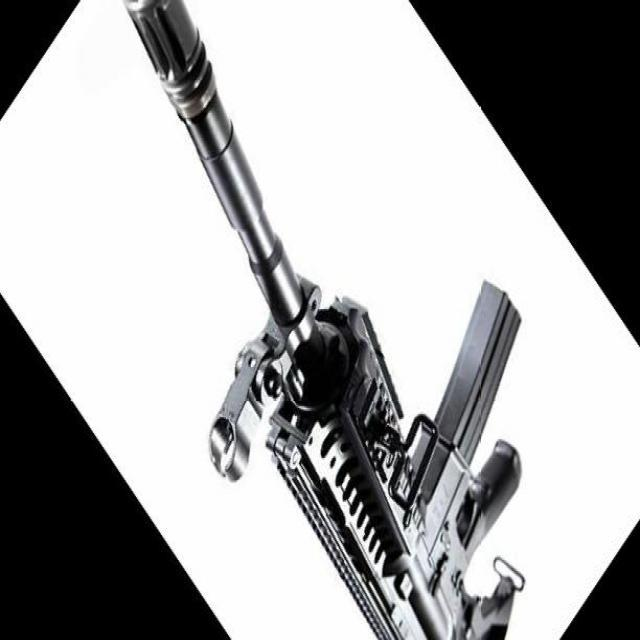weapon: (122, 0, 526, 640)
